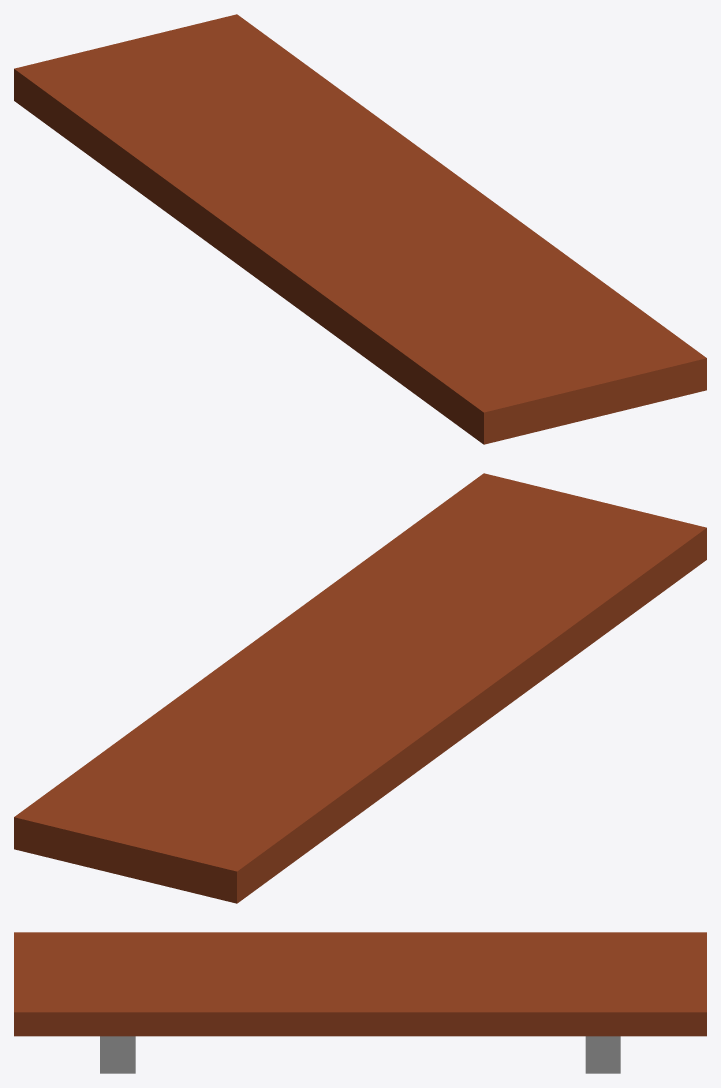
Rendered from Prateleira.fbx.
3 views of the same model, one above another, from view 1: azimuth 30°, elevation 25°; view 2: azimuth 150°, elevation 25°; view 3: azimuth 270°, elevation 25° (orthographic). The views are drawn at different scales.
Visible parts, largest first — view 1: Cube.124; view 2: Cube.124; view 3: Cube.124.
Boxes of the visible parts, box(x1,y1,x2,y2) form: Cube.124: box(14, 14, 706, 444); Cube.124: box(14, 473, 706, 903); Cube.124: box(14, 932, 706, 1073).
Bounding box in the file's own units: 66.41 × 23.68 × 242.
